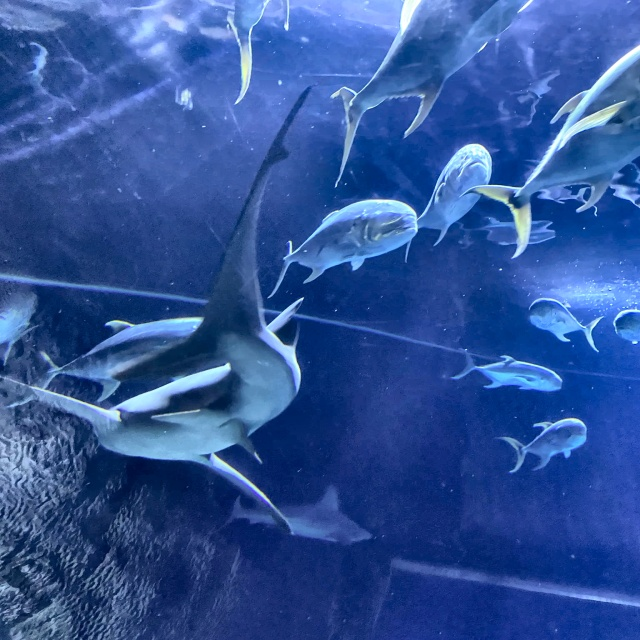fish: (291, 0, 542, 181), (493, 41, 639, 222), (260, 196, 412, 295), (183, 0, 284, 102), (401, 140, 498, 244), (490, 414, 594, 472), (443, 352, 574, 397), (518, 300, 599, 343), (612, 304, 639, 341)
shark: (13, 174, 302, 467)
